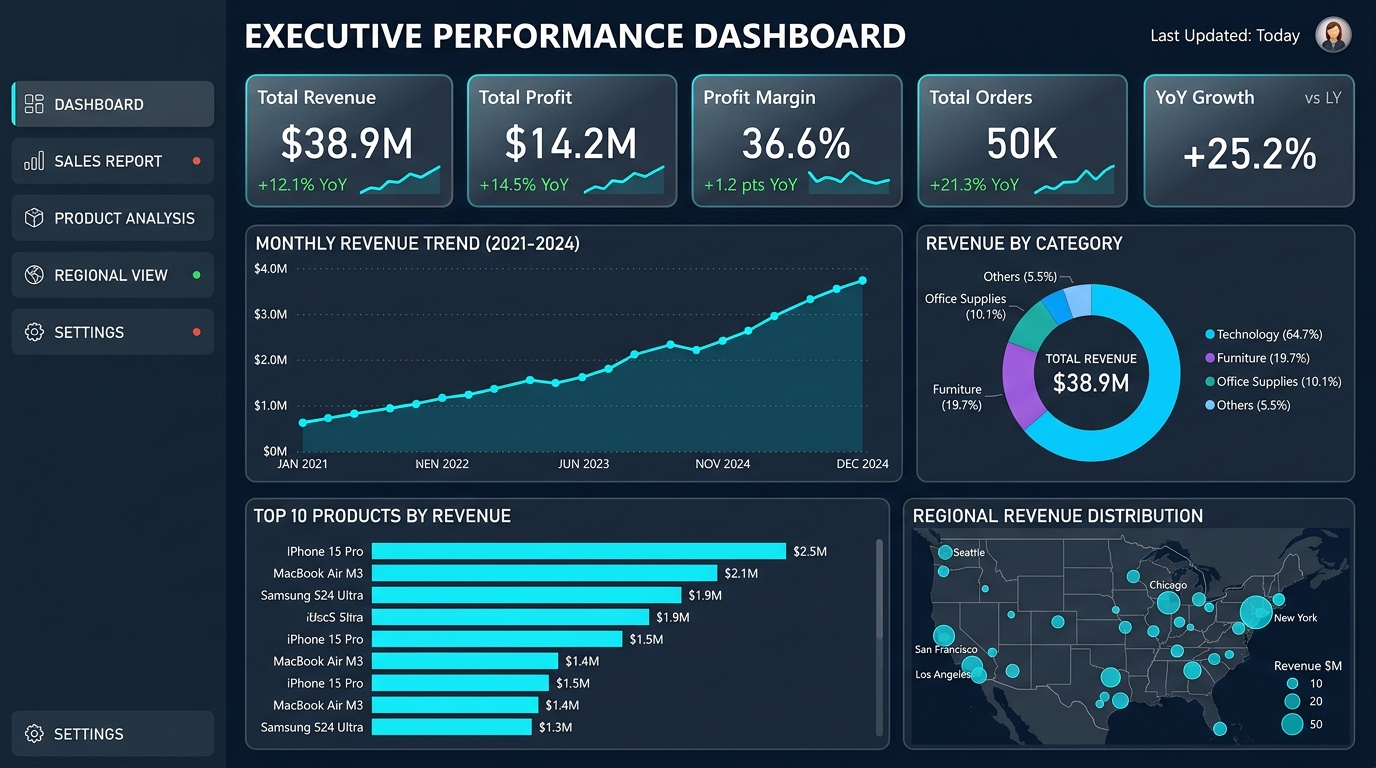

The page's visual inventory and layout, read from the dashboard file:
{"tool":"powerbi","page":{"name":"Executive Overview","canvas":[1280,720],"ordinal":0},"visuals":[{"type":"textbox","box":[10,14,130,34],"z":200},{"type":"textbox","box":[10,46,130,24],"z":300},{"type":"card","fields":{"Values":["_Measures.Overview Title"]},"box":[160,8,1100,46],"z":500},{"type":"slicer","fields":{"Values":["DimDate.Year"]},"box":[160,58,330,46],"z":600},{"type":"slicer","fields":{"Values":["DimProduct.Category"]},"box":[498,58,250,46],"z":700},{"type":"slicer","fields":{"Values":["DimCustomer.Segment"]},"box":[756,58,250,46],"z":800},{"type":"slicer","fields":{"Values":["DimRegion.Region"]},"box":[1014,58,250,46],"z":900},{"type":"card","fields":{"Values":["_Measures.Total Revenue (M)"]},"box":[160,112,175,82],"z":1000},{"type":"card","fields":{"Values":["_Measures.Total Profit (M)"]},"box":[345,112,175,82],"z":1100},{"type":"card","fields":{"Values":["_Measures.Profit Margin %"]},"box":[530,112,175,82],"z":1200},{"type":"card","fields":{"Values":["_Measures.Total Orders"]},"box":[715,112,175,82],"z":1300},{"type":"card","fields":{"Values":["_Measures.Avg Order Value"]},"box":[900,112,175,82],"z":1400},{"type":"card","fields":{"Values":["_Measures.YoY Growth %"]},"box":[1085,112,175,82],"z":1500},{"type":"card","fields":{"Values":["_Measures.Top Product Label"]},"box":[160,202,360,44],"z":1600},{"type":"card","fields":{"Values":["_Measures.Top Region Label"]},"box":[530,202,440,44],"z":1700},{"type":"card","fields":{"Values":["_Measures.Top Rep Label"]},"box":[980,202,284,44],"z":1800},{"type":"lineChart","title":"Revenue trend vs prior year  (drill: Year > Quarter > Month)","fields":{"Category":["DimDate.Year","DimDate.Quarter","DimDate.MonthName"],"Y":["_Measures.Total Revenue","_Measures.Revenue PY"]},"box":[160,254,560,202],"z":1900},{"type":"donutChart","title":"Revenue by category","fields":{"Category":["DimProduct.Category"],"Y":["_Measures.Total Revenue"]},"box":[730,254,250,202],"z":2000},{"type":"clusteredBarChart","title":"Top 5 products","fields":{"Category":["DimProduct.ProductName"],"Y":["_Measures.Total Revenue"]},"box":[990,254,274,202],"z":2100},{"type":"map","title":"Revenue by city","fields":{"X":["DimRegion.Longitude"],"Y":["DimRegion.Latitude"],"Size":["_Measures.Total Revenue"]},"box":[160,464,480,246],"z":2200},{"type":"clusteredBarChart","title":"Revenue by region","fields":{"Category":["DimRegion.Region"],"Y":["_Measures.Total Revenue"]},"box":[650,464,300,246],"z":2300},{"type":"clusteredBarChart","title":"Bottom 5 cities by revenue","fields":{"Category":["DimRegion.City"],"Y":["_Measures.Total Revenue"]},"box":[960,464,304,246],"z":2400},{"type":"pageNavigator","box":[0,70.2,138.1,602.4],"z":2401}]}

Visuals, with their boxes in screenshot pixels (x1, y1, x2, y2), scaled from the page's 1280x720 canvas onto the 1376x768 screenshot:
textbox: box=[11, 15, 150, 51]
textbox: box=[11, 49, 150, 75]
card - _Measures.Overview Title: box=[172, 9, 1354, 58]
slicer - DimDate.Year: box=[172, 62, 527, 111]
slicer - DimProduct.Category: box=[535, 62, 804, 111]
slicer - DimCustomer.Segment: box=[813, 62, 1081, 111]
slicer - DimRegion.Region: box=[1090, 62, 1359, 111]
card - _Measures.Total Revenue (M): box=[172, 119, 360, 207]
card - _Measures.Total Profit (M): box=[371, 119, 559, 207]
card - _Measures.Profit Margin %: box=[570, 119, 758, 207]
card - _Measures.Total Orders: box=[769, 119, 957, 207]
card - _Measures.Avg Order Value: box=[968, 119, 1156, 207]
card - _Measures.YoY Growth %: box=[1166, 119, 1354, 207]
card - _Measures.Top Product Label: box=[172, 215, 559, 262]
card - _Measures.Top Region Label: box=[570, 215, 1043, 262]
card - _Measures.Top Rep Label: box=[1054, 215, 1359, 262]
"Revenue trend vs prior year  (drill: Year > Quarter > Month)" lineChart: box=[172, 271, 774, 486]
"Revenue by category" donutChart: box=[785, 271, 1054, 486]
"Top 5 products" clusteredBarChart: box=[1064, 271, 1359, 486]
"Revenue by city" map: box=[172, 495, 688, 757]
"Revenue by region" clusteredBarChart: box=[699, 495, 1021, 757]
"Bottom 5 cities by revenue" clusteredBarChart: box=[1032, 495, 1359, 757]
pageNavigator: box=[0, 75, 148, 717]
